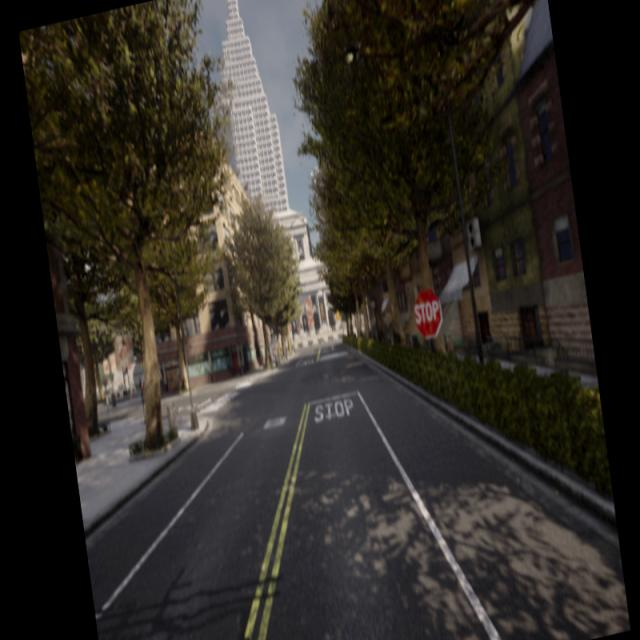stop sign: (411, 285, 445, 341)
